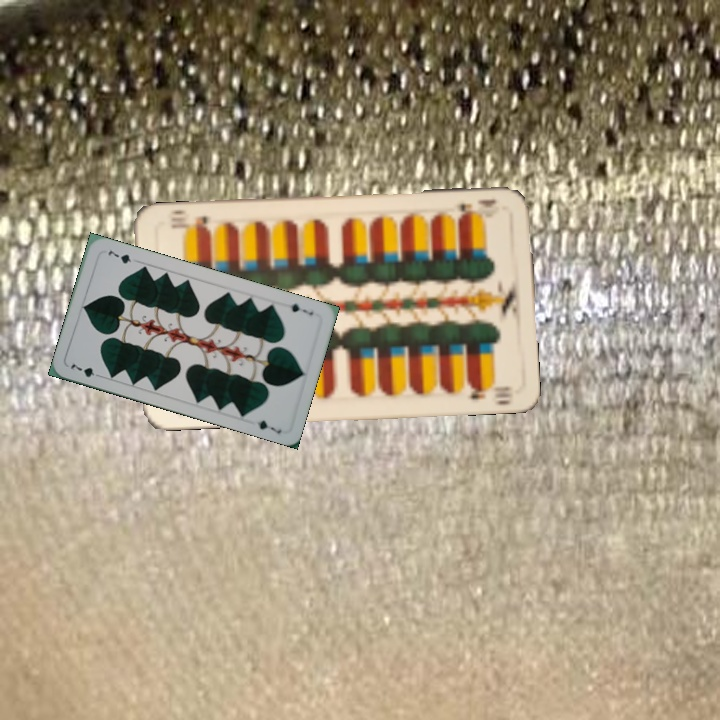E10: (454, 194, 498, 221)
G7: (67, 360, 105, 380), (281, 299, 316, 318)
